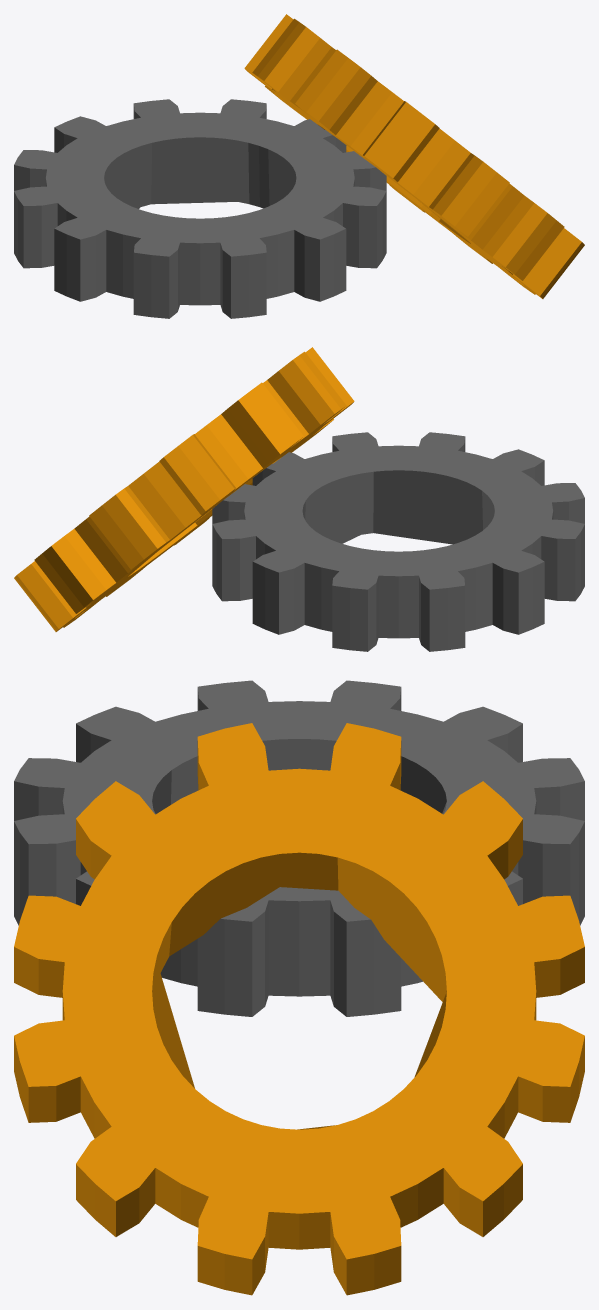
Rendered from Scrap.fbx.
3 views of the same model, one above another, from view 1: azimuth 30°, elevation 25°; view 2: azimuth 150°, elevation 25°; view 3: azimuth 270°, elevation 25° (orthographic). The views are drawn at different scales.
Visible parts, largest first — view 1: Gear, Gear.001; view 2: Gear, Gear.001; view 3: Gear.001, Gear.
Part boxes in pixels (<box>): Gear: <box>14,99,386,318</box>; Gear.001: <box>244,14,584,298</box>; Gear: <box>212,432,584,651</box>; Gear.001: <box>14,347,354,631</box>; Gear.001: <box>14,723,584,1295</box>; Gear: <box>14,680,584,1016</box>.
Bounding box in the file's own units: 103 × 65.11 × 54.53.
